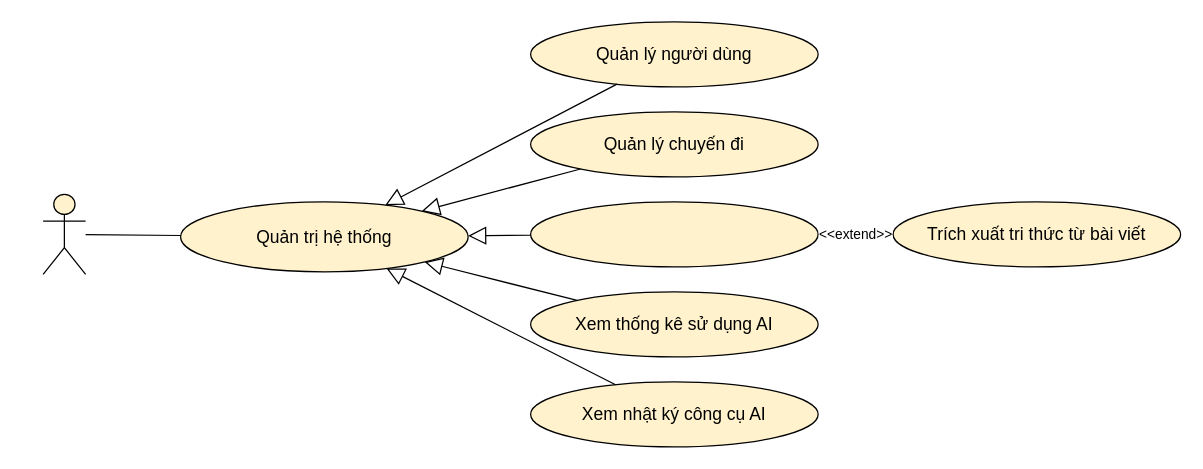
This 1203x469 diagram has some shape labels left out. The centre of each missing label's shape, as x and y in pixels:
"Quản lý tri thức điểm đến" goes at [673,234].
"Quản trị viên" goes at [64,233].
